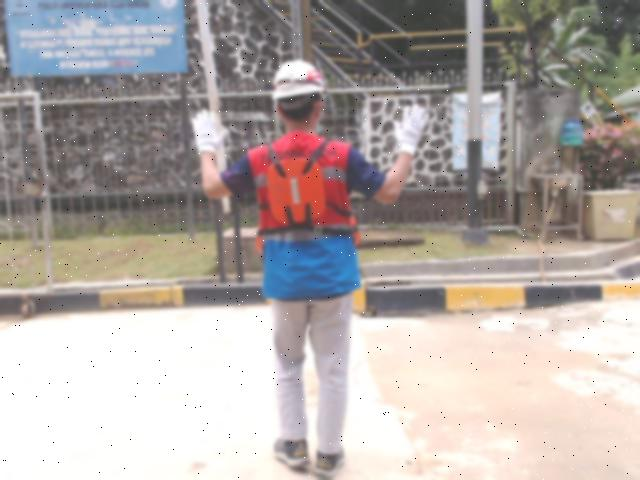gloves: (392, 100, 431, 159), (189, 108, 229, 156)
helmet: (272, 57, 325, 103)
safety-shoes: (270, 430, 311, 469), (314, 445, 346, 478)
vest: (263, 147, 329, 228)
